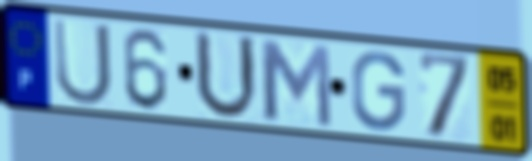6: (120, 23, 170, 115)
7: (417, 50, 473, 143)
G: (349, 48, 408, 134)
M: (255, 36, 335, 131)
U: (191, 26, 261, 124), (50, 15, 115, 109)
